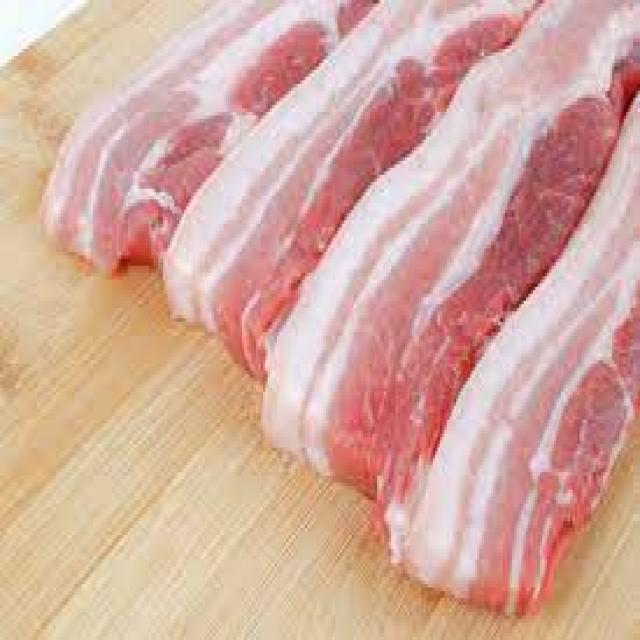pork: (265, 3, 640, 526), (163, 3, 540, 376), (405, 98, 639, 614), (40, 3, 372, 271)
